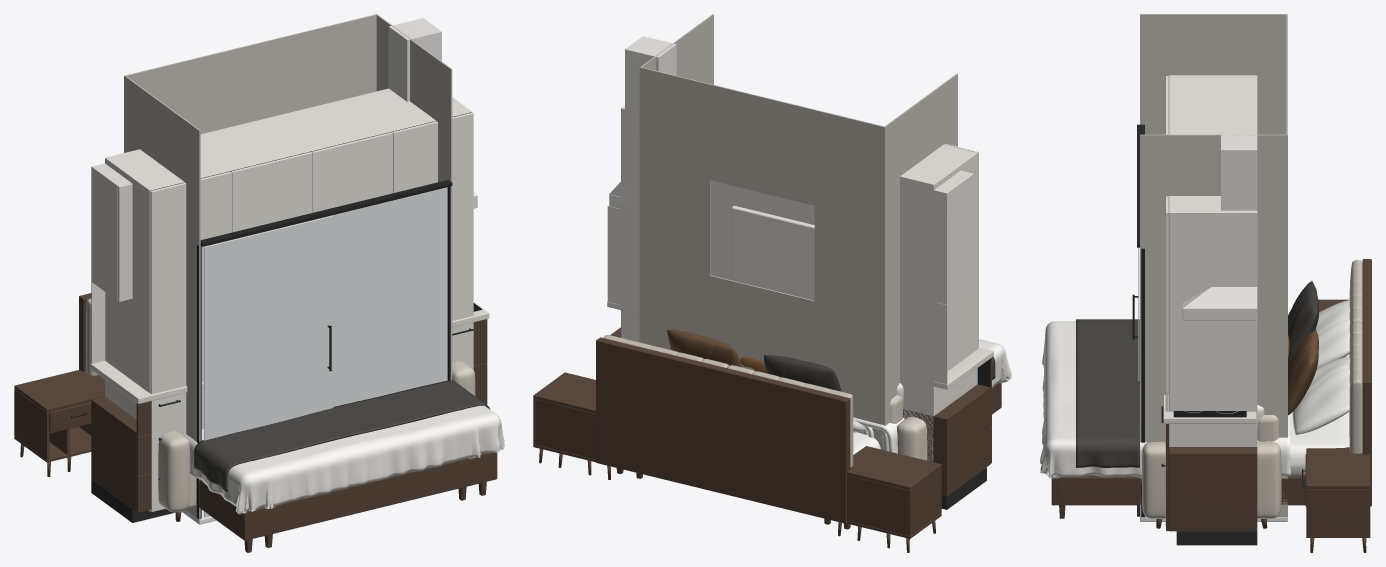
File: furniture.glb
The picture shows the model from 3 angles, left to right: view 1: azimuth 30°, elevation 25°; view 2: azimuth 150°, elevation 25°; view 3: azimuth 270°, elevation 25°; orthographic projection. The views are drawn at different scales.
Visible parts, largest first — view 1: wardrobe_furn, shower_showerglass, shower_tile2, bedding18_duvet, bed18_wood, bed15_wood, kitchen_wood, bedding18_runner, bedding15_duvet, kitchen_furn, shower_metal, bedding15_runner (+5 smaller); view 2: shower_tile2, bed15_wood, wardrobe_furn, bed18_wood, kitchen_furn, kitchen_tile, fridge_appliance, kitchen_wood, kitchen_appliance, k_top, sofa_arm-1, bedding18_deco0 (+6 smaller); view 3: shower_tile2, wardrobe_furn, bed18_wood, kitchen_wood, bedding18_runner, kitchen_appliance, bedding18_duvet, bedding18_sheet, sofa_arm1, bedding15_runner, bed15_wood, bed18_headboard (+11 smaller).
Boxes of the visible parts, <box> form: wardrobe_furn: <box>105,88,473,511</box>; shower_showerglass: <box>204,187,447,517</box>; shower_tile2: <box>124,14,452,519</box>; bedding18_duvet: <box>185,405,504,514</box>; bed18_wood: <box>14,293,497,552</box>; bed15_wood: <box>35,369,476,547</box>; kitchen_wood: <box>91,319,487,512</box>; bedding18_runner: <box>194,380,490,491</box>; bedding15_duvet: <box>265,420,480,508</box>; kitchen_furn: <box>91,163,132,301</box>; shower_metal: <box>197,180,452,519</box>; bedding15_runner: <box>226,385,464,460</box>; shower_tile2: <box>639,14,957,449</box>; bed15_wood: <box>553,345,920,548</box>; wardrobe_furn: <box>621,106,978,461</box>; bed18_wood: <box>533,337,1001,552</box>; kitchen_furn: <box>900,170,973,304</box>; kitchen_tile: <box>607,205,947,384</box>; fridge_appliance: <box>731,205,814,300</box>; kitchen_wood: <box>610,327,991,496</box>; kitchen_appliance: <box>609,36,676,213</box>; k_top: <box>607,301,993,389</box>; sofa_arm-1: <box>897,417,927,460</box>; bedding18_deco0: <box>782,358,841,391</box>; shower_tile2: <box>1140,14,1287,517</box>; wardrobe_furn: <box>1165,75,1257,526</box>; bed18_wood: <box>1051,259,1371,552</box>; kitchen_wood: <box>1166,424,1257,531</box>; bedding18_runner: <box>1076,319,1139,467</box>; kitchen_appliance: <box>1182,133,1257,320</box>; bedding18_duvet: <box>1040,321,1287,478</box>; bedding18_sheet: <box>1257,300,1349,476</box>; sofa_arm1: <box>1141,441,1281,518</box>; bedding15_runner: <box>1076,330,1139,426</box>; bed15_wood: <box>1305,268,1371,542</box>; bed18_headboard: <box>1349,260,1362,453</box>.
Size of the model in its own units: 2.89 by 2.8 by 2.18.
